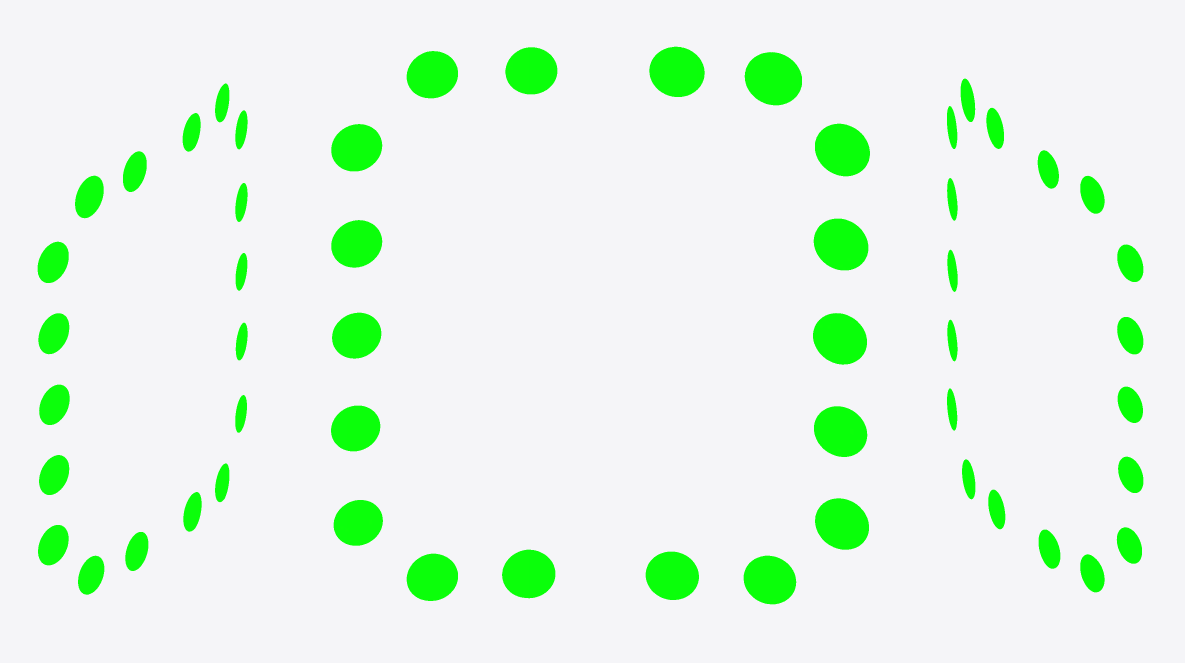
File: target.glb
3 renders of one model, left to right at view 1: azimuth 30°, elevation 25°; view 2: azimuth 150°, elevation 25°; view 3: azimuth 270°, elevation 25°, orthographic. The views are drawn at different scales.
Visible parts, largest first — view 1: hit_area; view 2: hit_area; view 3: hit_area.
Boxes of the visible parts, x1,y1,x2,y2 form: hit_area: (37,83,247,594); hit_area: (331,46,869,604); hit_area: (947,78,1143,592).
Bounding box in the file's own units: 0.1287 × 0.1593 × 0.0724.
Materials: 1 (1 with a texture image).
